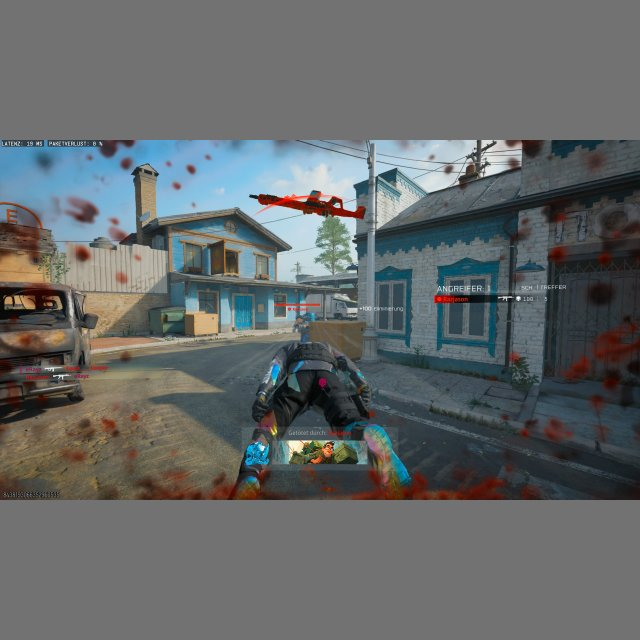player: (293, 312, 311, 342)
